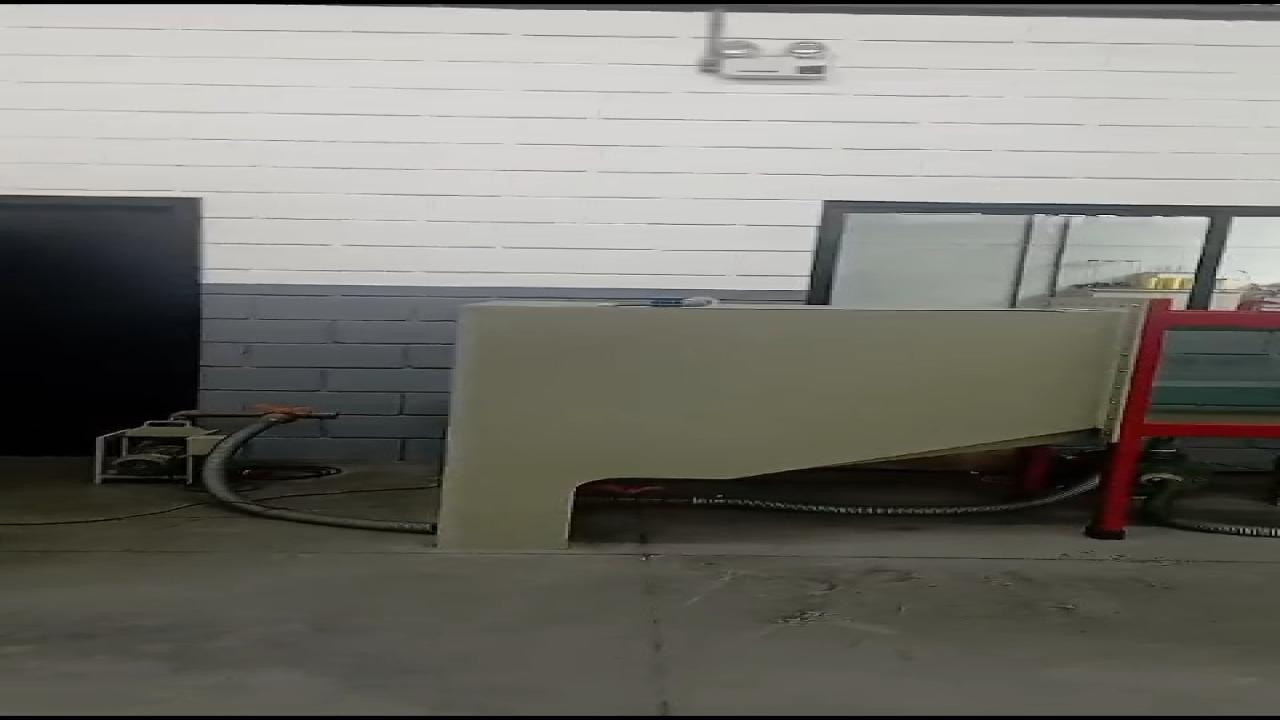Cube: (649, 298, 682, 308)
